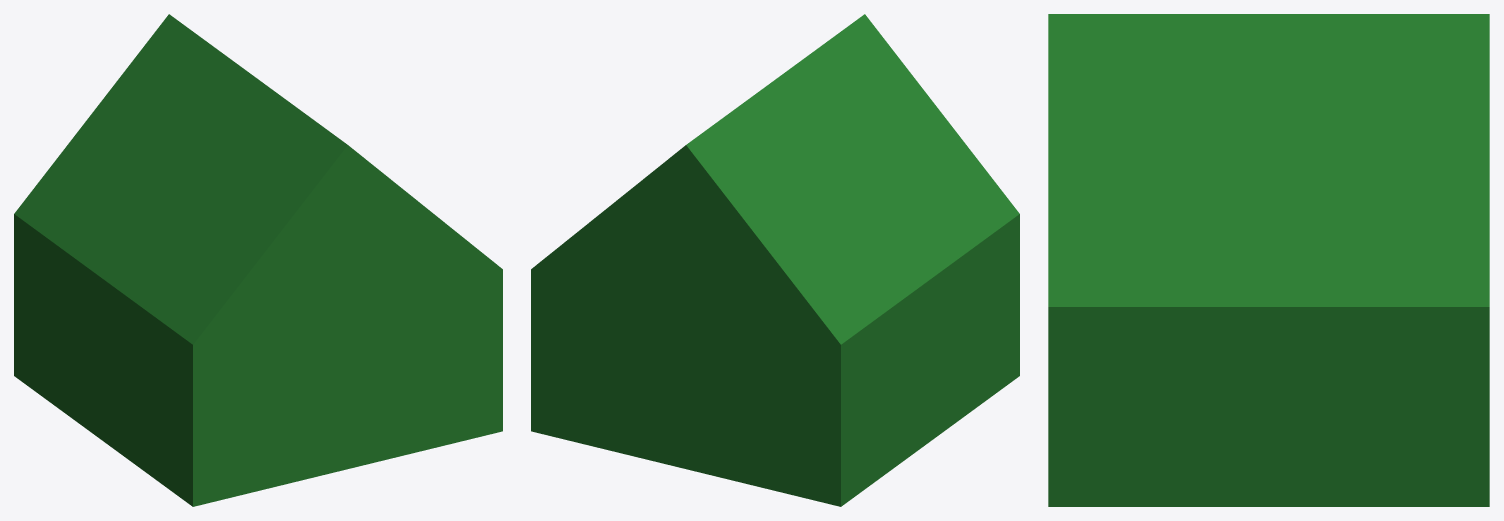
Rendered from House.obj.
3 renders of one model, left to right at view 1: azimuth 30°, elevation 25°; view 2: azimuth 150°, elevation 25°; view 3: azimuth 270°, elevation 25°, orthographic. The views are drawn at different scales.
Parts seen in each view (by area): view 1: House_<STL_BINARY>; view 2: House_<STL_BINARY>; view 3: House_<STL_BINARY>.
Part boxes in pixels (x1,y1,x2,y2): House_<STL_BINARY>: (14, 14, 502, 506); House_<STL_BINARY>: (531, 14, 1019, 506); House_<STL_BINARY>: (1048, 14, 1489, 506).
Size of the model in its own units: 0.9873 by 0.9873 by 0.9873.
